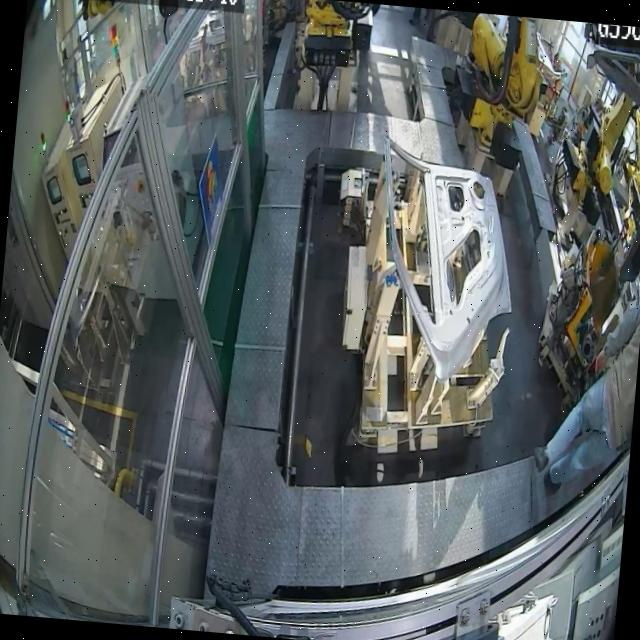Person: (529, 291, 640, 493), (409, 6, 430, 22)
